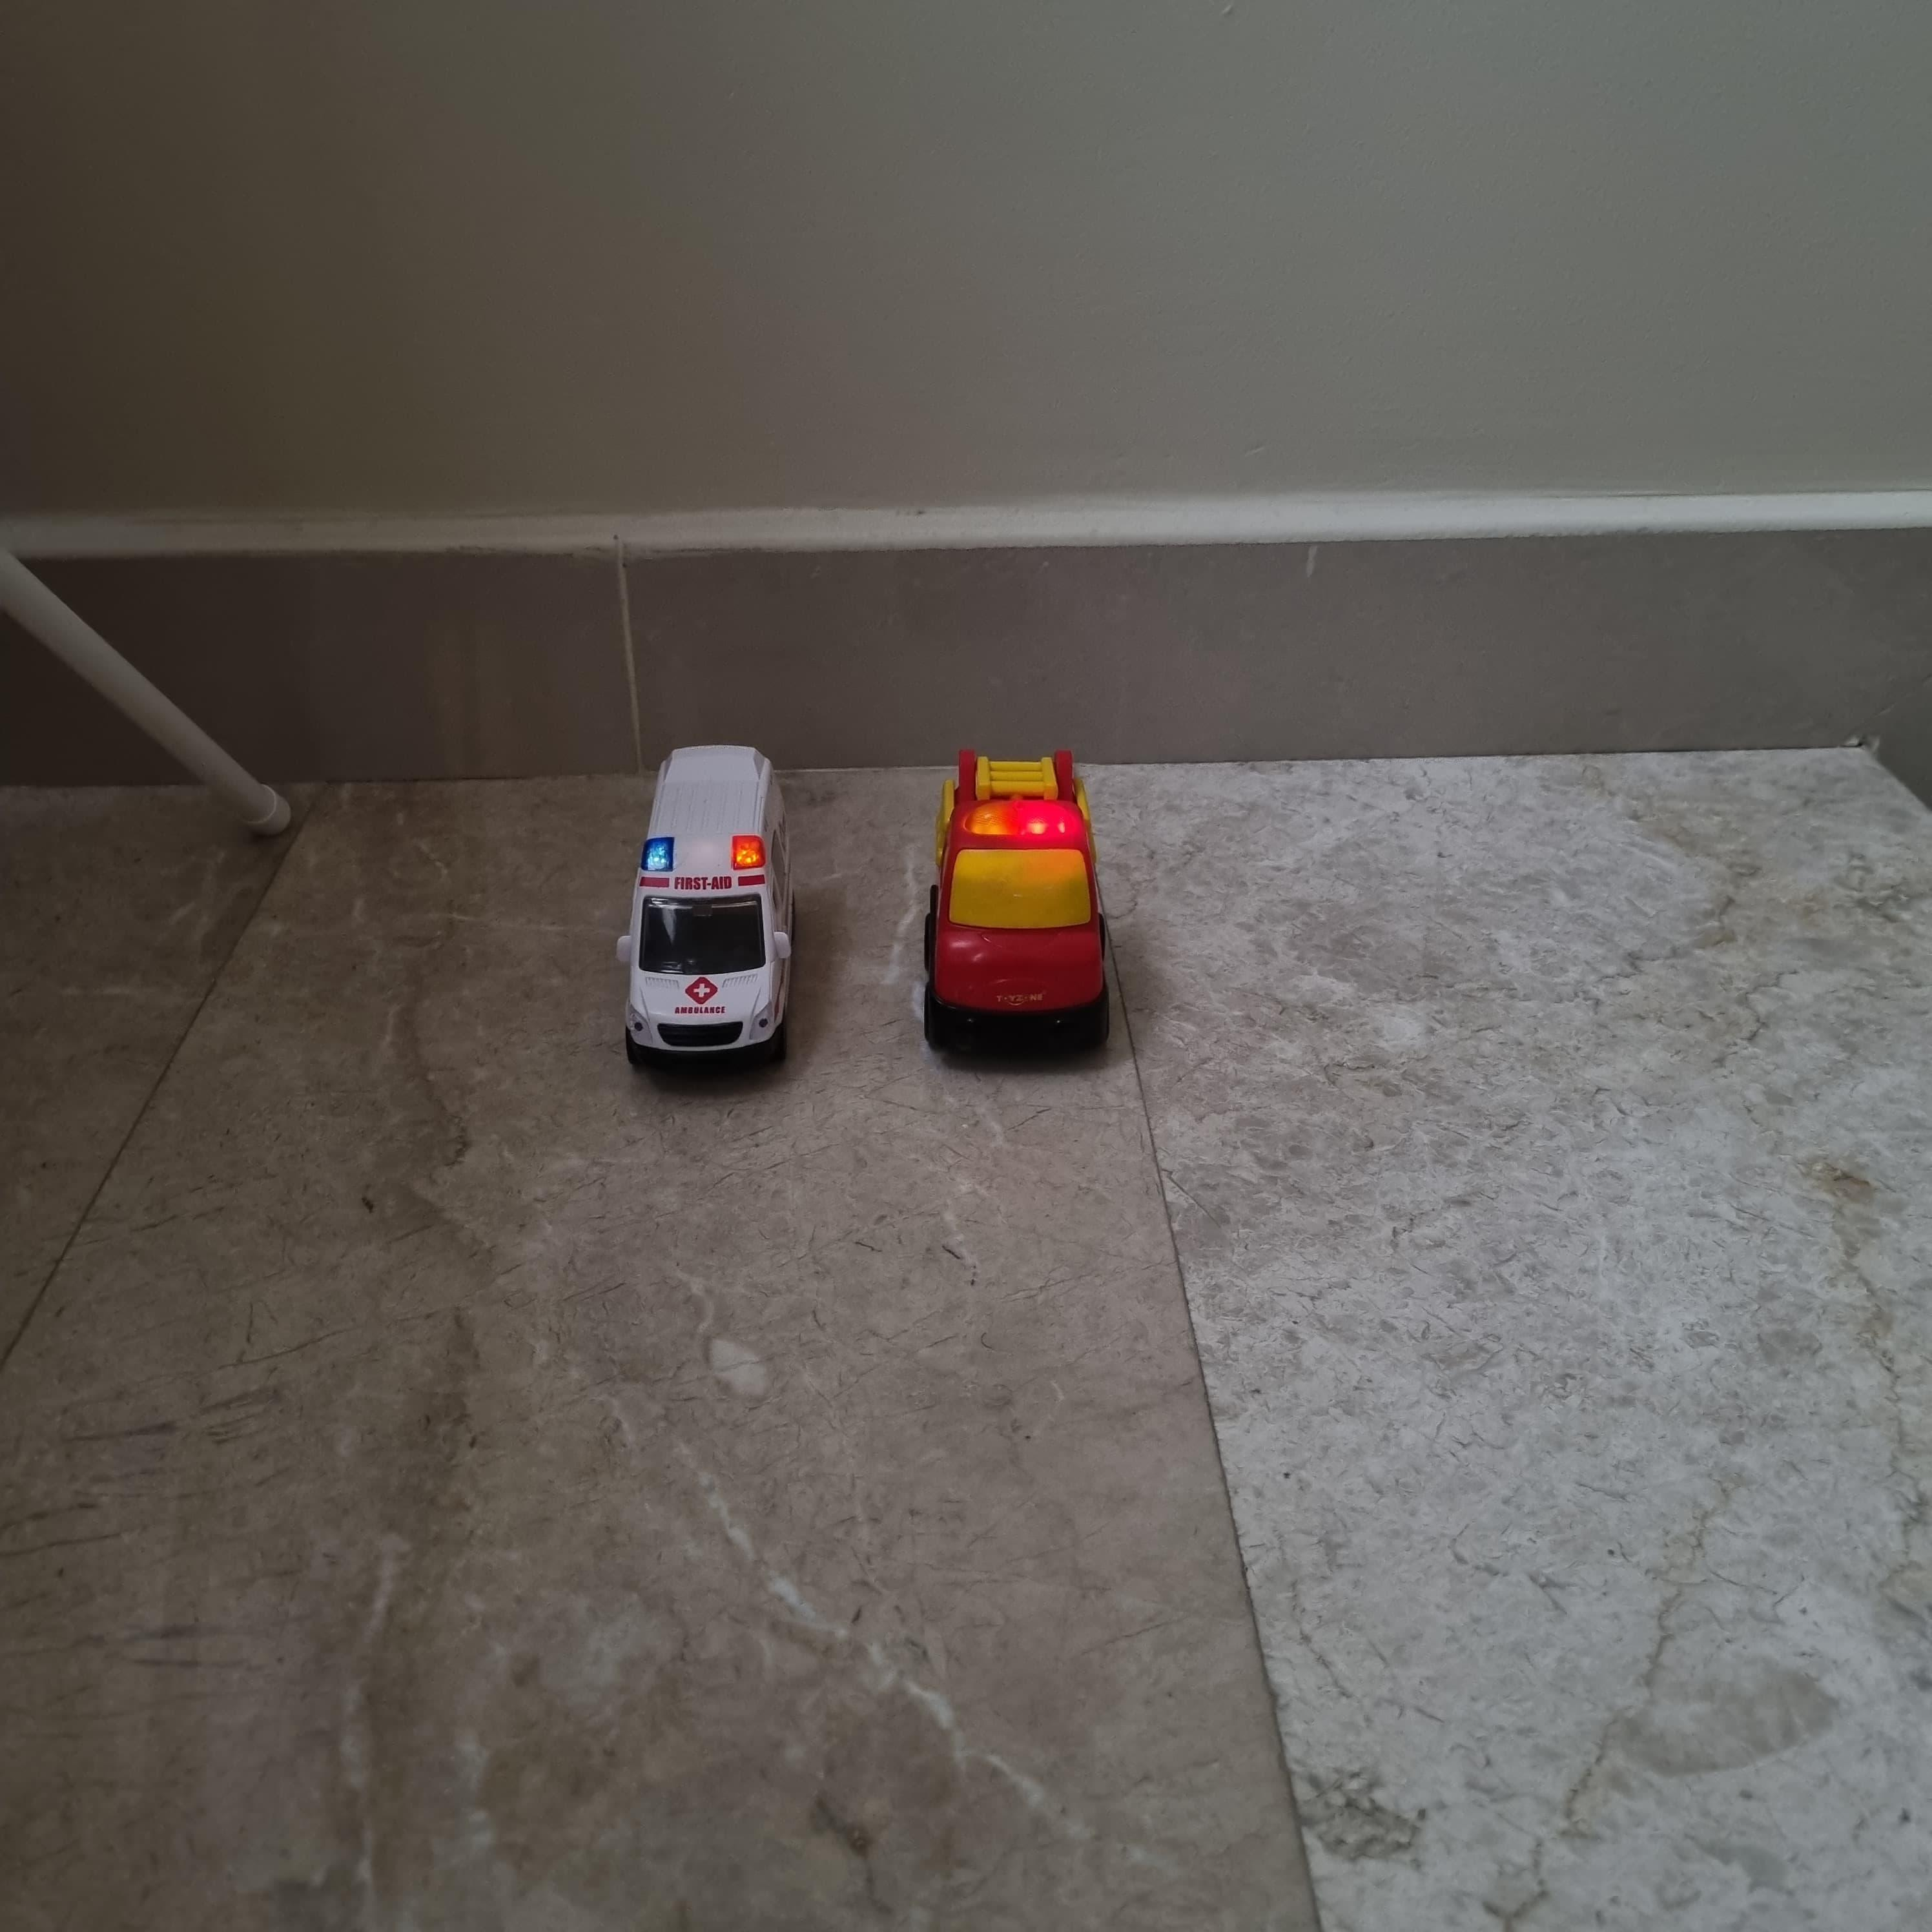ambulance_on: (614, 745, 794, 1076)
firetruck_on: (922, 750, 1108, 1063)
